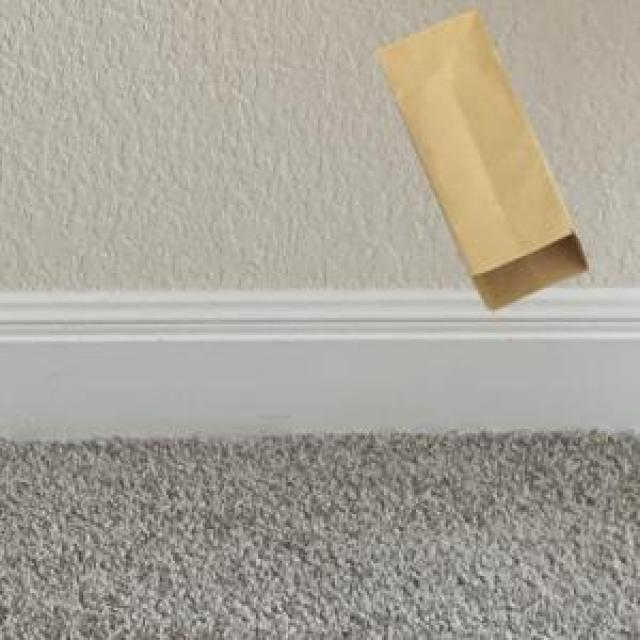paper: (373, 4, 582, 307)
